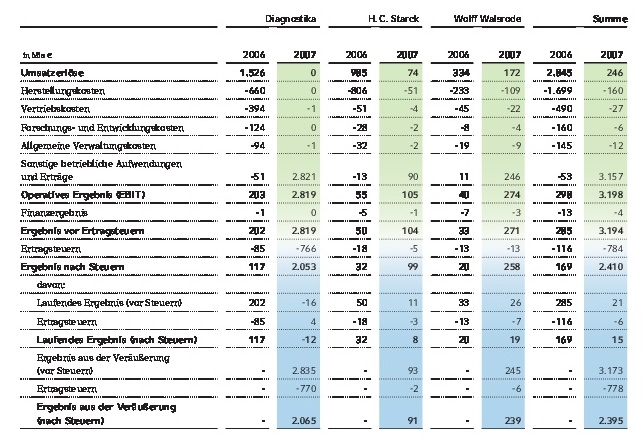table: (0, 0, 644, 438)
